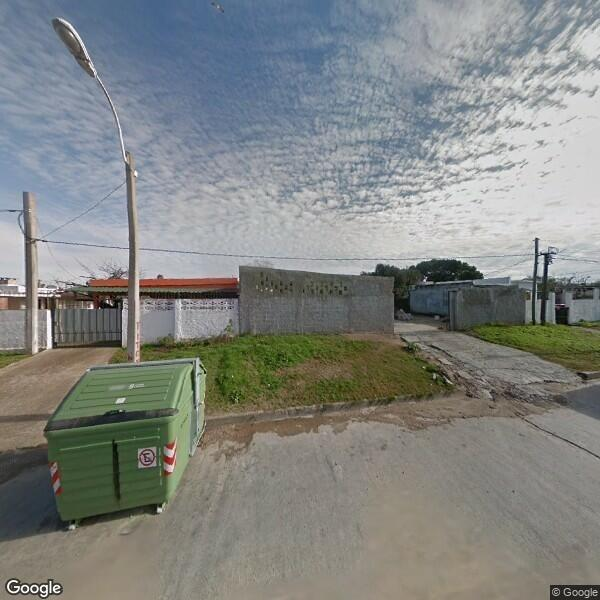Trash: (43, 357, 205, 522)
